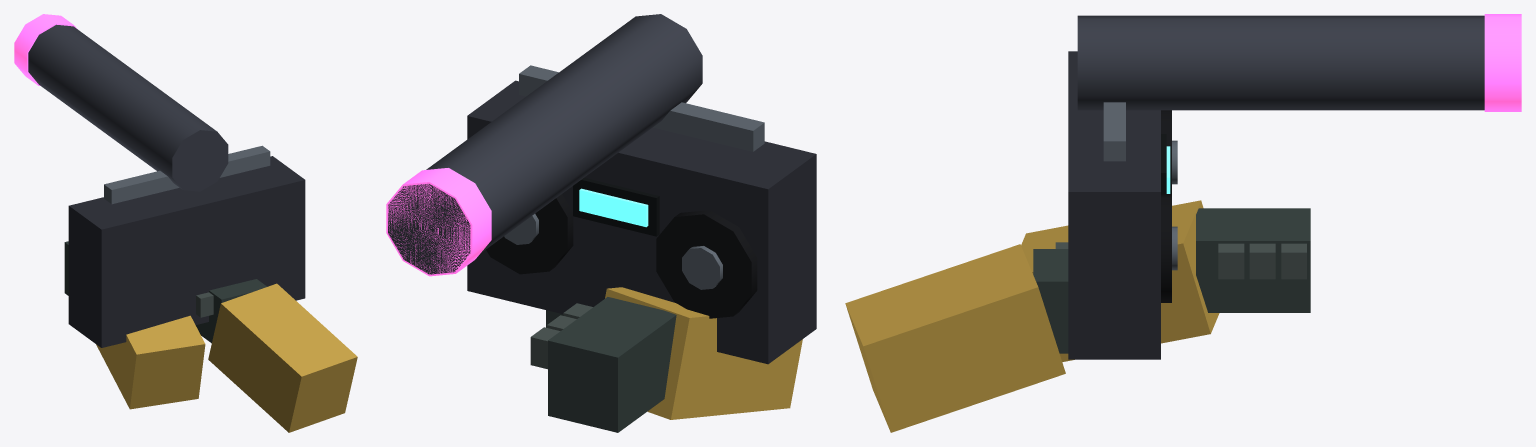
The model's file is boombox_launcher.glb.
The picture shows the model from 3 angles, left to right: view 1: azimuth 30°, elevation 25°; view 2: azimuth 150°, elevation 25°; view 3: azimuth 270°, elevation 25°; orthographic projection. The views are drawn at different scales.
Visible parts, largest first — view 1: _MeshInstance3D_3869, _MeshInstance3D_3877, _MeshInstance3D_3887, _MeshInstance3D_3881, _MeshInstance3D_3876, _MeshInstance3D_3878, _MeshInstance3D_3886, _MeshInstance3D_3890; view 2: _MeshInstance3D_3869, _MeshInstance3D_3877, _MeshInstance3D_3880, _MeshInstance3D_3881, _MeshInstance3D_3870, _MeshInstance3D_3878, _MeshInstance3D_3876, _MeshInstance3D_3872, _MeshInstance3D_3874, _MeshInstance3D_3875, _MeshInstance3D_3871, _MeshInstance3D_3882 (+1 smaller); view 3: _MeshInstance3D_3877, _MeshInstance3D_3887, _MeshInstance3D_3869, _MeshInstance3D_3880, _MeshInstance3D_3881, _MeshInstance3D_3878, _MeshInstance3D_3886, _MeshInstance3D_3876, _MeshInstance3D_3872, _MeshInstance3D_3883, _MeshInstance3D_3884, _MeshInstance3D_3882.
Part boxes in pixels (left/top/right/bottom): _MeshInstance3D_3869: left=68, top=156, right=305, bottom=347; _MeshInstance3D_3877: left=28, top=24, right=228, bottom=191; _MeshInstance3D_3887: left=208, top=283, right=357, bottom=432; _MeshInstance3D_3881: left=96, top=315, right=205, bottom=409; _MeshInstance3D_3876: left=104, top=145, right=270, bottom=204; _MeshInstance3D_3878: left=14, top=14, right=76, bottom=85; _MeshInstance3D_3886: left=195, top=279, right=267, bottom=343; _MeshInstance3D_3890: left=196, top=292, right=213, bottom=317; _MeshInstance3D_3869: left=467, top=80, right=816, bottom=364; _MeshInstance3D_3877: left=388, top=14, right=702, bottom=274; _MeshInstance3D_3880: left=548, top=297, right=676, bottom=432; _MeshInstance3D_3881: left=605, top=287, right=802, bottom=419; _MeshInstance3D_3870: left=656, top=210, right=757, bottom=318; _MeshInstance3D_3878: left=386, top=168, right=491, bottom=276; _MeshInstance3D_3876: left=519, top=65, right=764, bottom=151; _MeshInstance3D_3872: left=486, top=194, right=573, bottom=274; _MeshInstance3D_3874: left=573, top=177, right=659, bottom=236; _MeshInstance3D_3875: left=579, top=188, right=648, bottom=227; _MeshInstance3D_3871: left=682, top=246, right=722, bottom=289; _MeshInstance3D_3882: left=530, top=327, right=560, bottom=369; _MeshInstance3D_3877: left=1077, top=15, right=1484, bottom=110; _MeshInstance3D_3887: left=845, top=244, right=1065, bottom=432; _MeshInstance3D_3869: left=1068, top=51, right=1160, bottom=359; _MeshInstance3D_3880: left=1196, top=208, right=1310, bottom=312; _MeshInstance3D_3881: left=1021, top=200, right=1219, bottom=361; _MeshInstance3D_3878: left=1484, top=14, right=1521, bottom=111; _MeshInstance3D_3886: left=1033, top=249, right=1068, bottom=353; _MeshInstance3D_3876: left=1103, top=102, right=1125, bottom=161; _MeshInstance3D_3872: left=1161, top=194, right=1171, bottom=302; _MeshInstance3D_3883: left=1249, top=243, right=1275, bottom=279; _MeshInstance3D_3884: left=1218, top=243, right=1244, bottom=279; _MeshInstance3D_3882: left=1281, top=243, right=1306, bottom=279.
Bounding box in the file's own units: 0.18 × 0.2152 × 0.3657.
